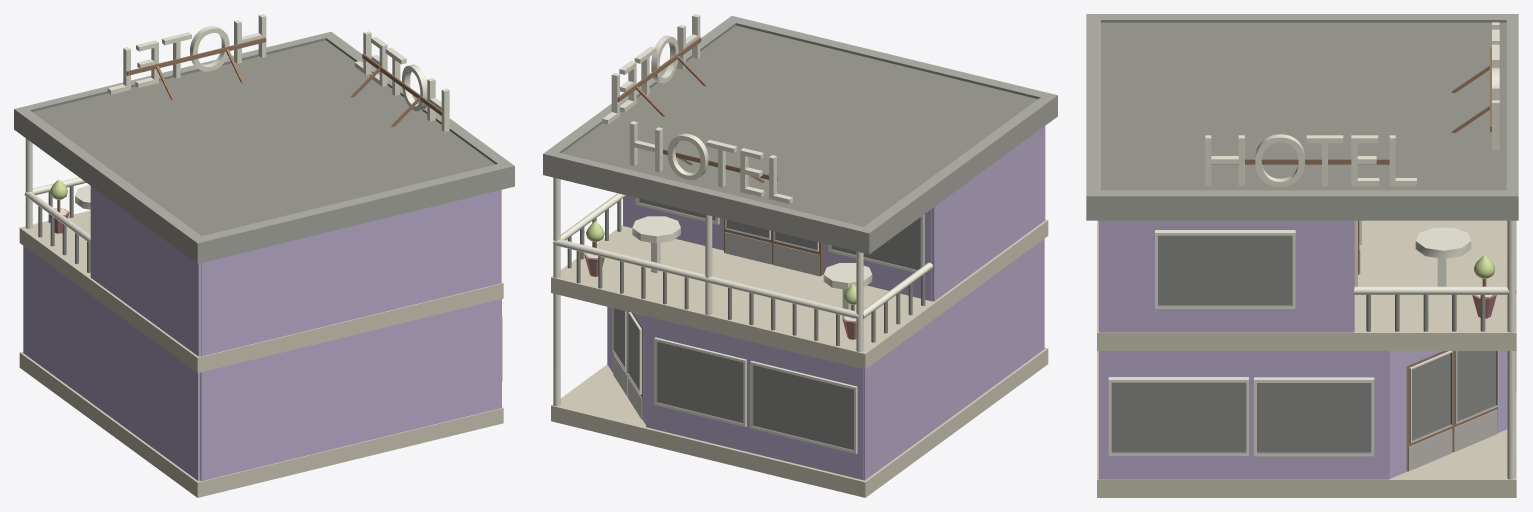
Rendered from house31.fbx.
3 renders of one model, left to right at view 1: azimuth 30°, elevation 25°; view 2: azimuth 150°, elevation 25°; view 3: azimuth 270°, elevation 25°, orthographic. The views are drawn at different scales.
Visible parts, largest first — view 1: Cube_2; view 2: Cube_2; view 3: Cube_2.
Boxes of the visible parts, bbox=[...] form: Cube_2: bbox=[14, 14, 514, 497]; Cube_2: bbox=[543, 14, 1057, 497]; Cube_2: bbox=[1086, 14, 1518, 497].
Size of the model in its own units: 1147 by 1044 by 1150.
